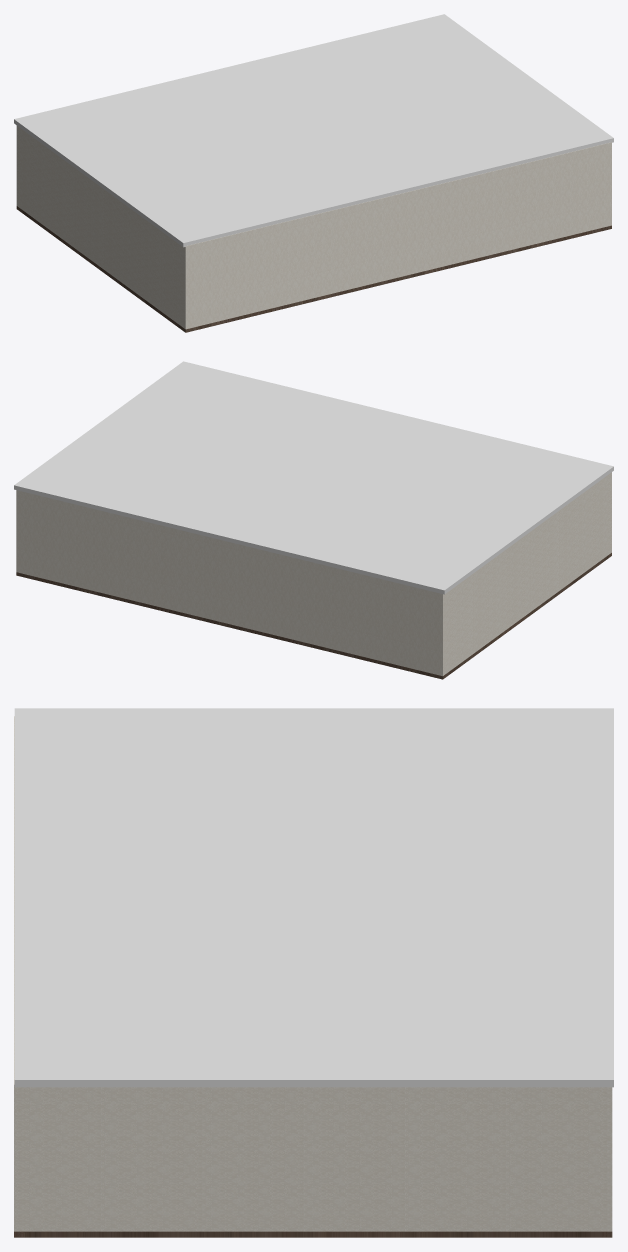
Rendered from gallery4.glb.
The picture shows the model from 3 angles, top to bottom: view 1: azimuth 30°, elevation 25°; view 2: azimuth 150°, elevation 25°; view 3: azimuth 270°, elevation 25°; orthographic projection. The views are drawn at different scales.
Parts seen in each view (by area): view 1: ceiling, walls; view 2: ceiling, walls; view 3: ceiling, walls.
Boxes of the visible parts, box(x1,y1,x2,y2) form: ceiling: box(14, 14, 613, 247); walls: box(16, 125, 611, 332); ceiling: box(14, 361, 613, 594); walls: box(16, 472, 611, 679); ceiling: box(14, 708, 613, 1087); walls: box(14, 716, 612, 1237).
Bounding box in the file's own units: 29.39 × 5.87 × 20.05.
3 materials, 2 textured.
